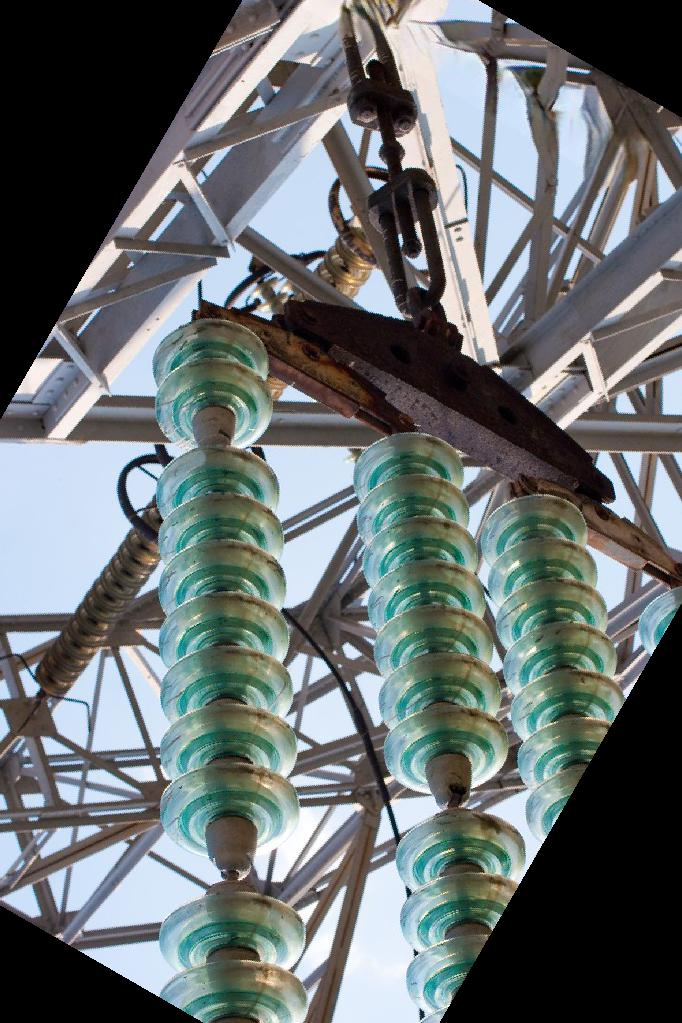insulator: (143, 313, 320, 1023), (345, 423, 527, 1023), (472, 488, 631, 844), (28, 494, 166, 700), (313, 212, 381, 295)
insulator_stringdrop: (152, 759, 310, 970), (381, 702, 531, 889), (146, 353, 285, 521)
